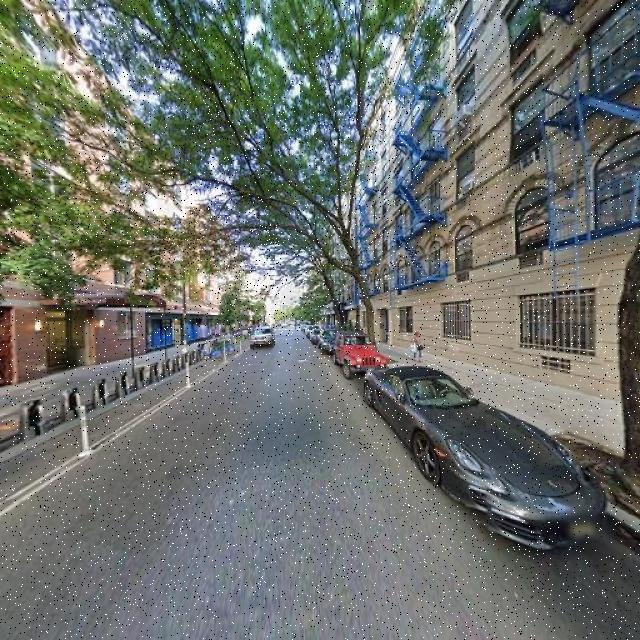Building: (360, 1, 640, 395), (1, 1, 235, 379)
